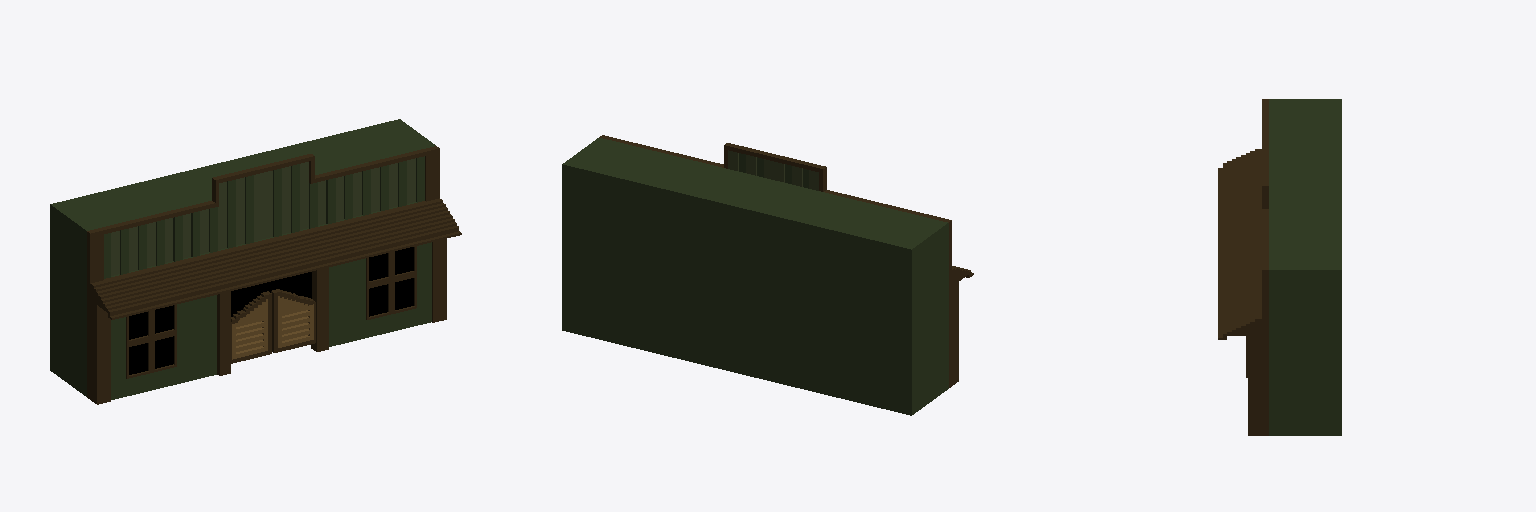
The picture shows the model from 3 angles: view 1: azimuth 30°, elevation 25°; view 2: azimuth 150°, elevation 25°; view 3: azimuth 270°, elevation 25°; orthographic projection.
Visible parts, largest first — view 1: object 1; view 2: object 1; view 3: object 1.
Boxes of the visible parts, x1,y1,x2,y2 form: object 1: [50, 119, 461, 404]; object 1: [562, 135, 973, 415]; object 1: [1218, 99, 1341, 435].
Size of the model in its own units: 17.6 by 9.1 by 5.4.
1 materials, 1 textured.